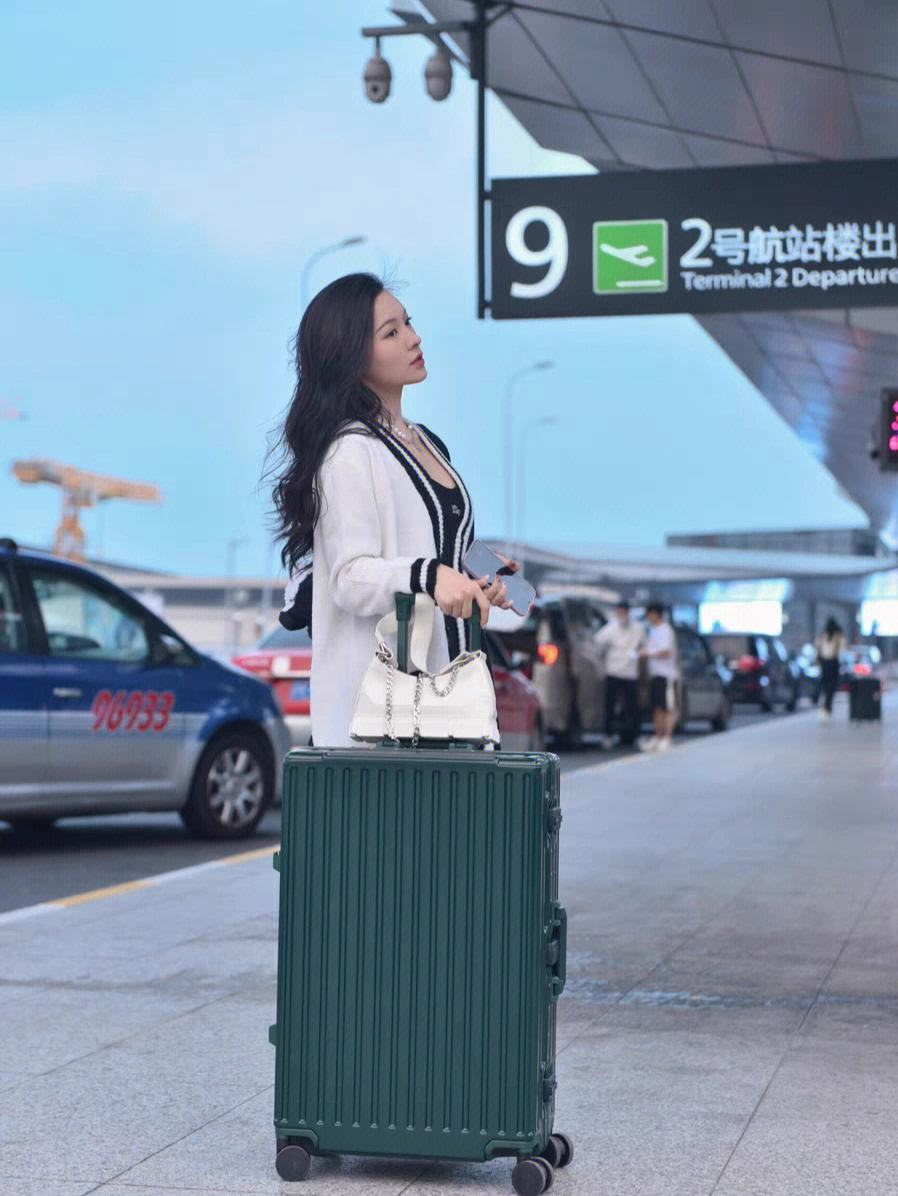box: (274, 746, 558, 1162)
handle: (547, 902, 566, 1005)
wheel: (511, 1155, 553, 1196), (276, 1144, 312, 1182), (539, 1132, 575, 1169)
